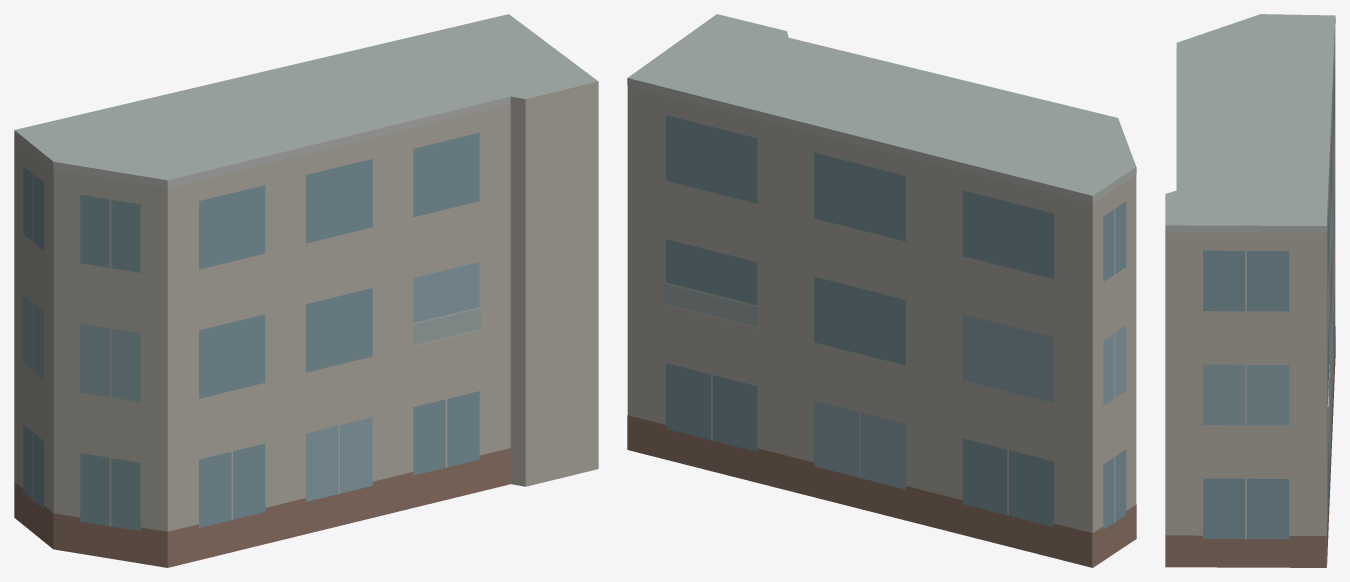
Rendered from survey-upis-32472152.glb.
3 renders of one model, left to right at view 1: azimuth 30°, elevation 25°; view 2: azimuth 150°, elevation 25°; view 3: azimuth 270°, elevation 25°, orthographic. The views are drawn at different scales.
Parts seen in each view (by area): view 1: survey-upis-32472152.tmp; view 2: survey-upis-32472152.tmp; view 3: survey-upis-32472152.tmp.
Part boxes in pixels (x1,y1,x2,y2): survey-upis-32472152.tmp: [14, 14, 598, 567]; survey-upis-32472152.tmp: [627, 14, 1136, 567]; survey-upis-32472152.tmp: [1165, 14, 1335, 567].
Bounding box in the file's own units: 15.82 × 11.88 × 5.36.
